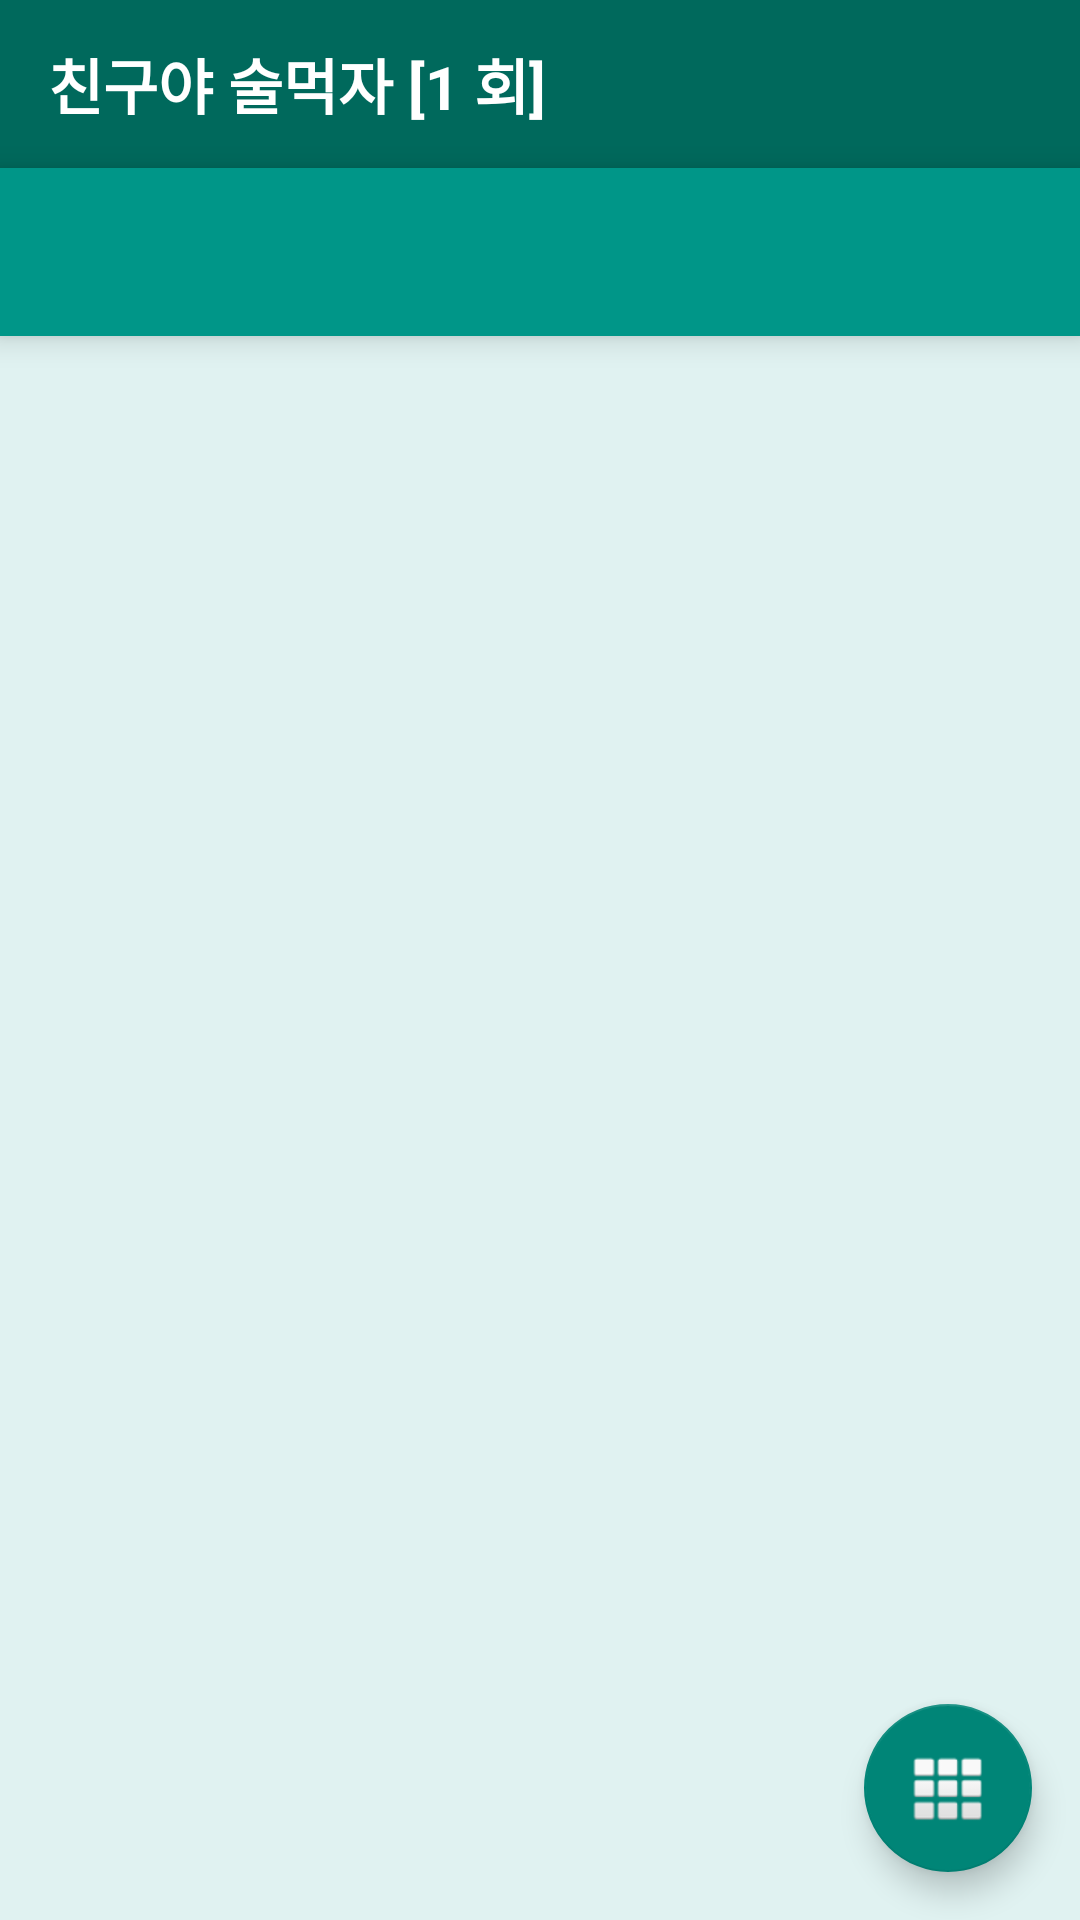

Locate icon controls on the screen. Image size 1080px×1920px, boxes as bbox(x1, y1, x2, y2).
dialer: bbox(864, 1704, 1032, 1872)
